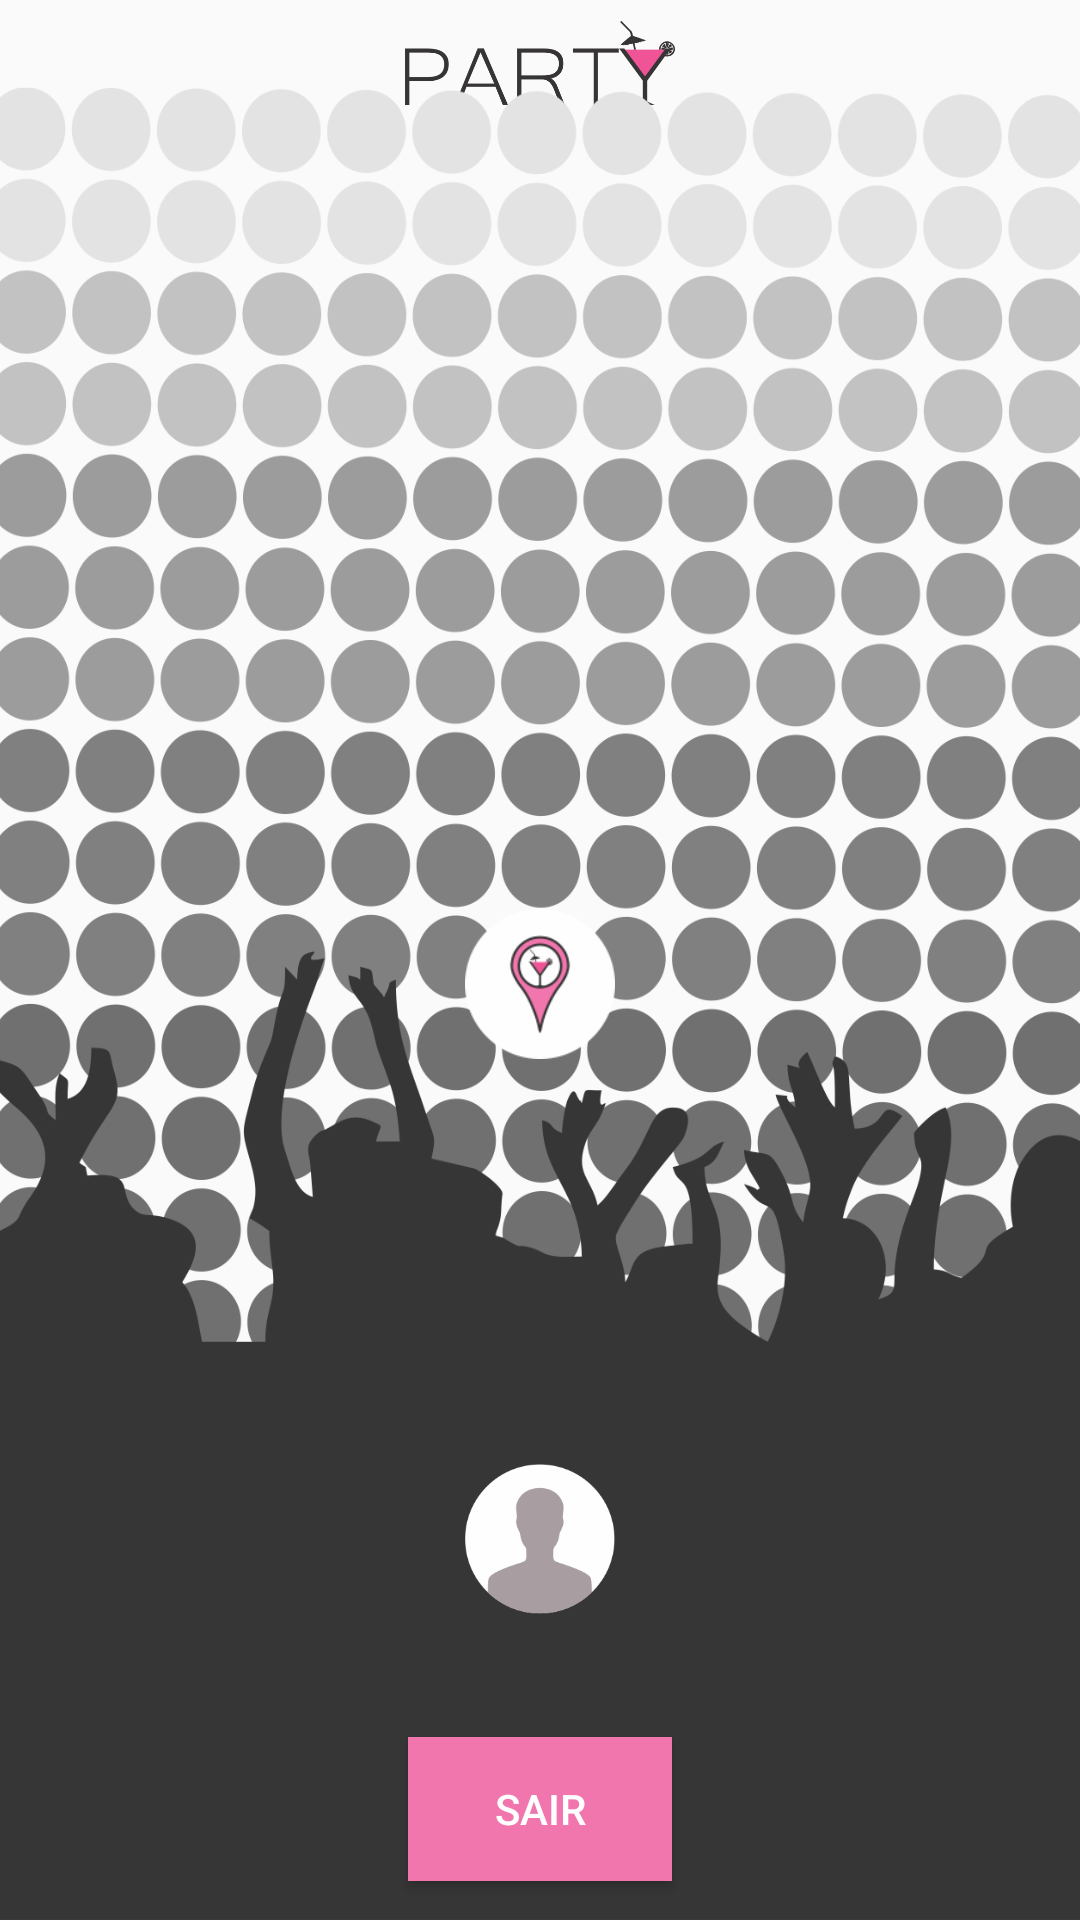

Icon click points for this 1080px×1920px phone screenshot, format point (x, y):
foto: point (540, 1539)
